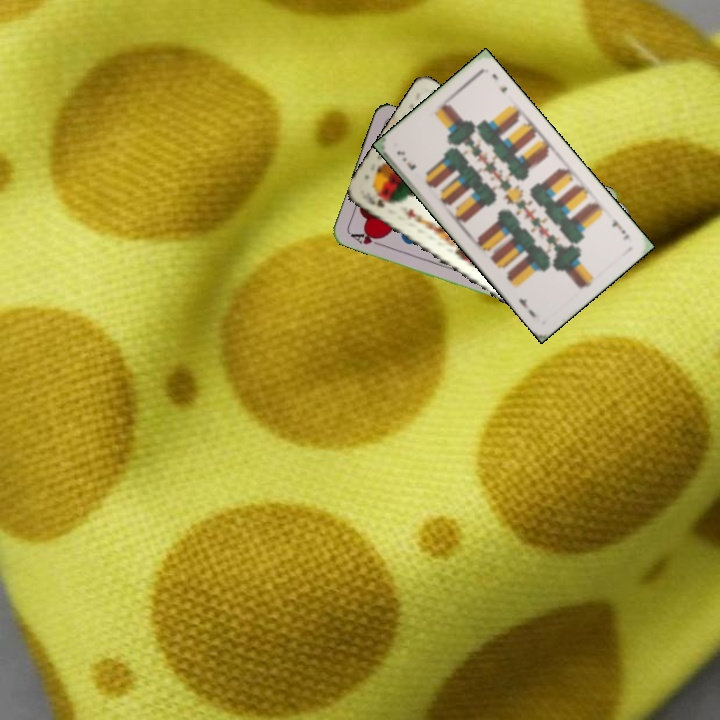E7: (392, 147, 419, 173), (607, 215, 632, 243)
HA: (345, 228, 385, 249)
SK: (364, 192, 393, 211)
